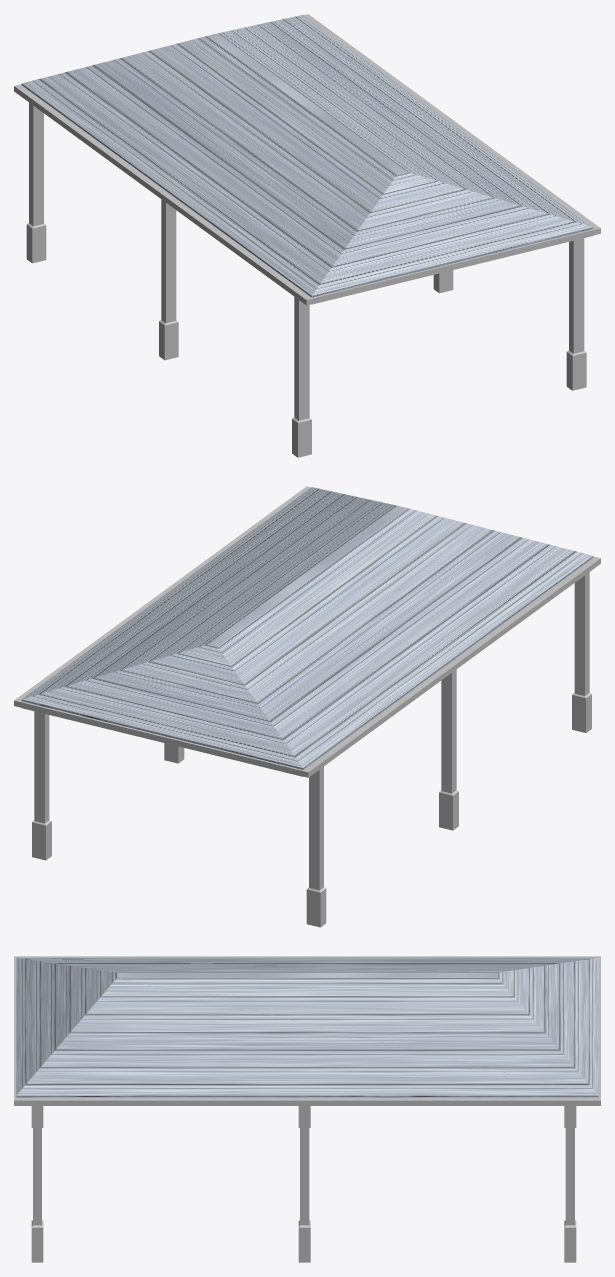
The model's file is CAR PORCH.fbx.
3 renders of one model, top to bottom at view 1: azimuth 30°, elevation 25°; view 2: azimuth 150°, elevation 25°; view 3: azimuth 270°, elevation 25°, orthographic.
Parts seen in each view (by area): view 1: Cube.005; view 2: Cube.005; view 3: Cube.005.
Part boxes in pixels (x1,y1,x2,y2): Cube.005: [14, 14, 600, 457]; Cube.005: [14, 486, 600, 927]; Cube.005: [14, 956, 600, 1262].
Size of the model in its own units: 647 by 457 by 1114.
